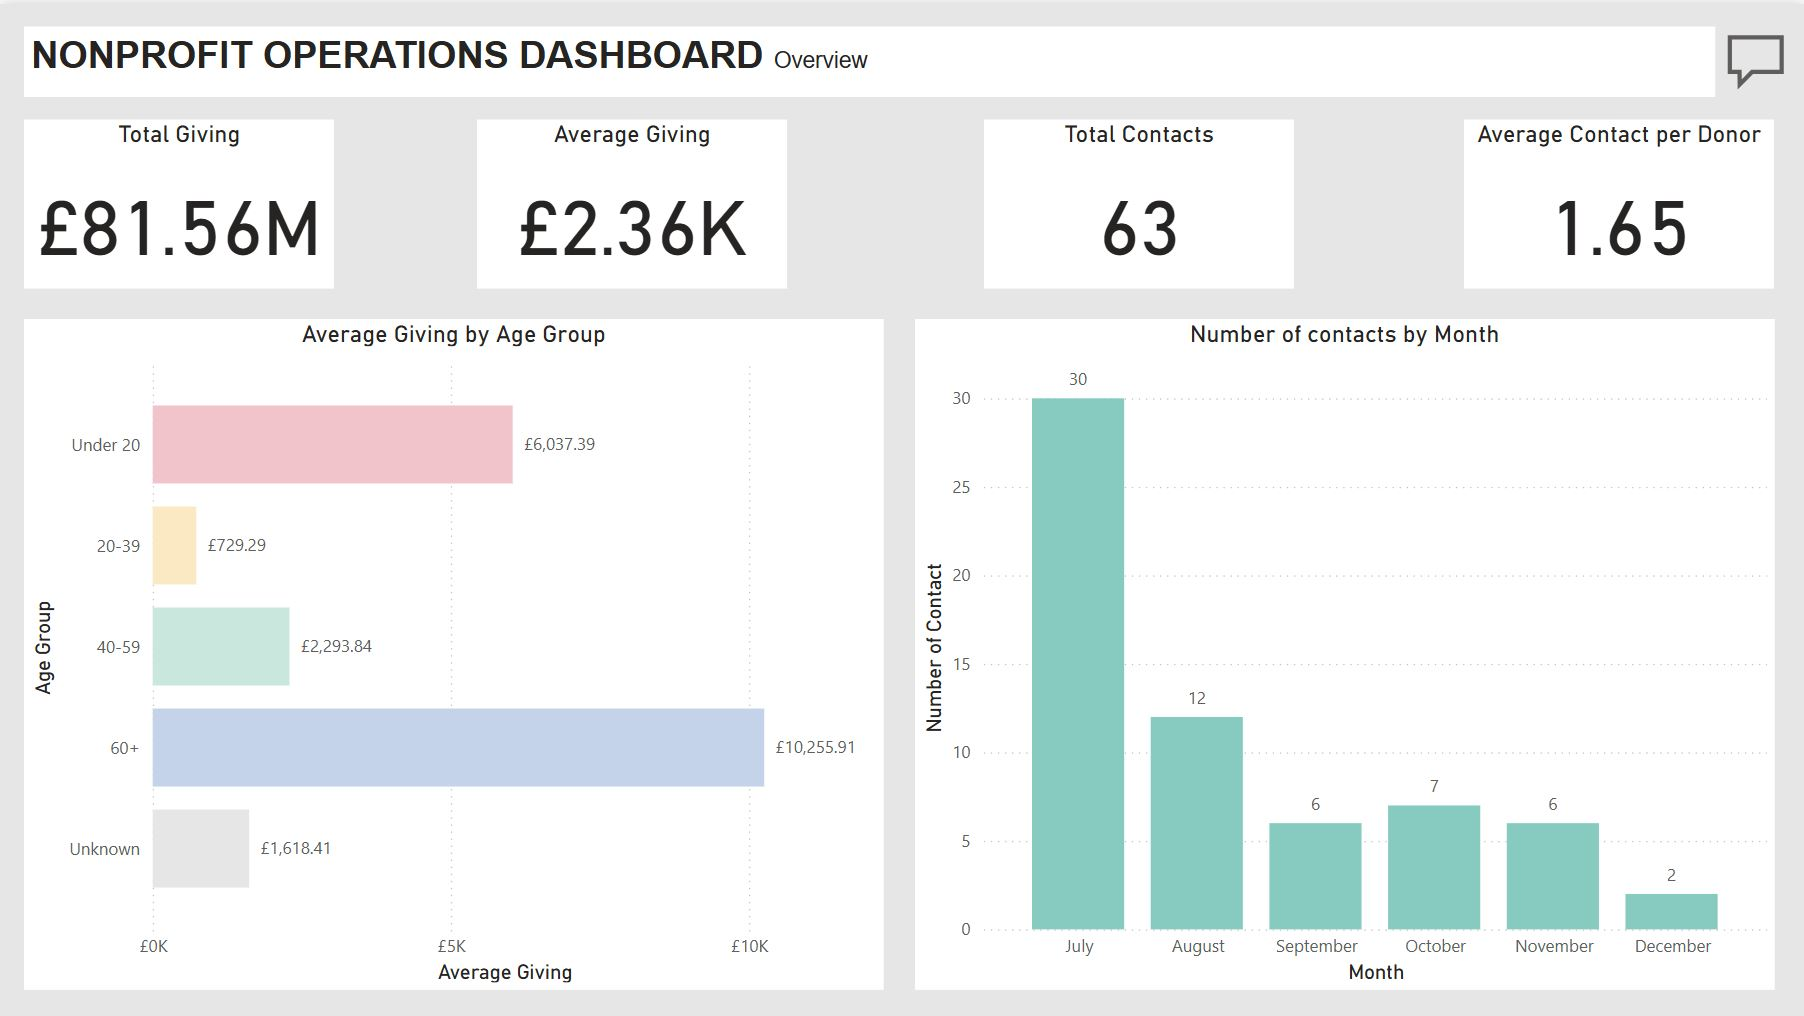

What the dashboard file says about the page in this screenshot:
{"tool":"powerbi","page":{"name":"Overview","canvas":[1280,720],"ordinal":0},"visuals":[{"type":"textbox","box":[17,16,1200,50],"z":1},{"type":"card","title":"Total Giving","fields":{"Values":["Sum(Donors.TotalGiving)"]},"box":[17,82,220.3,120.3],"z":2},{"type":"card","title":"Average Giving","fields":{"Values":["Avg(Donors.TotalGiving)"]},"box":[338.5,82,220.3,120.3],"z":3},{"type":"card","title":"Total Contacts","fields":{"Values":["Sum(Contacts.Contact)"]},"box":[698.2,82,220.3,120.3],"z":4},{"type":"card","title":"Average Contact per Donor","fields":{"Values":["Contacts.Avg_contact"]},"box":[1038.8,82,220.3,120.3],"z":5},{"type":"clusteredColumnChart","title":"Number of contacts by Month","fields":{"Category":["Contacts.Date.Variation.Date Hierarchy.Month","Contacts.Date.Variation.Date Hierarchy.Day"],"Y":["Sum(Contacts.Contact)"]},"box":[17,224.6,610,475.7],"z":6},{"type":"clusteredBarChart","title":"Average Giving by Age Group","fields":{"Category":["Donors.Age_group"],"Y":["Avg(Donors.TotalGiving)"]},"box":[649.2,224.6,609.9,475.7],"z":7},{"type":"actionButton","box":[1220.4,16,59.6,50],"z":8}]}

Visuals, with their boxes in screenshot pixels (x1, y1, x2, y2), scaled from the page's 1280x720 canvas onto the 1804x1016 screenshot:
textbox: 24:23:1715:93
"Total Giving" card: 24:116:334:285
"Average Giving" card: 477:116:788:285
"Total Contacts" card: 984:116:1295:285
"Average Contact per Donor" card: 1464:116:1775:285
"Number of contacts by Month" clusteredColumnChart: 24:317:884:988
"Average Giving by Age Group" clusteredBarChart: 915:317:1775:988
actionButton: 1720:23:1803:93
